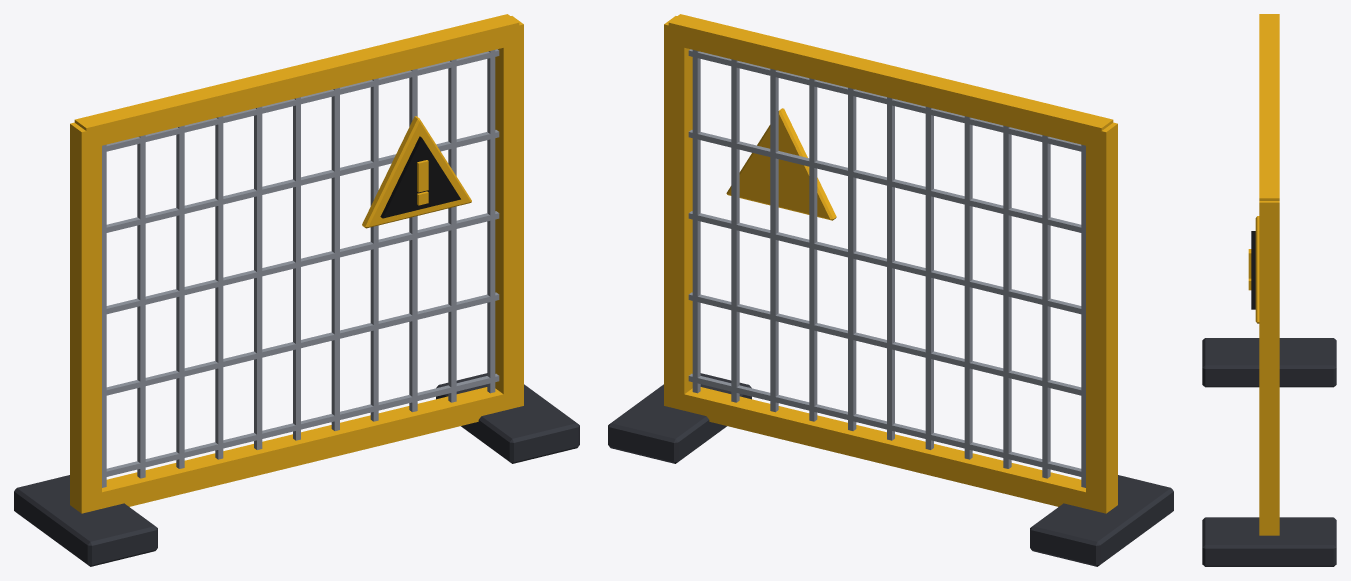
Rendered from ConstructionFence.glb.
3 renders of one model, left to right at view 1: azimuth 30°, elevation 25°; view 2: azimuth 150°, elevation 25°; view 3: azimuth 270°, elevation 25°, orthographic. The views are drawn at different scales.
Visible parts, largest first — view 1: Body; view 2: Body; view 3: Body.
Part boxes in pixels (x1,y1,x2,y2): Body: (14,14,579,566); Body: (608,14,1173,566); Body: (1202,14,1336,566).
Size of the model in its own units: 2.66 by 2.12 by 0.72.
